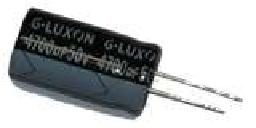Electrolytic Capacitor: (6, 6, 251, 128)
